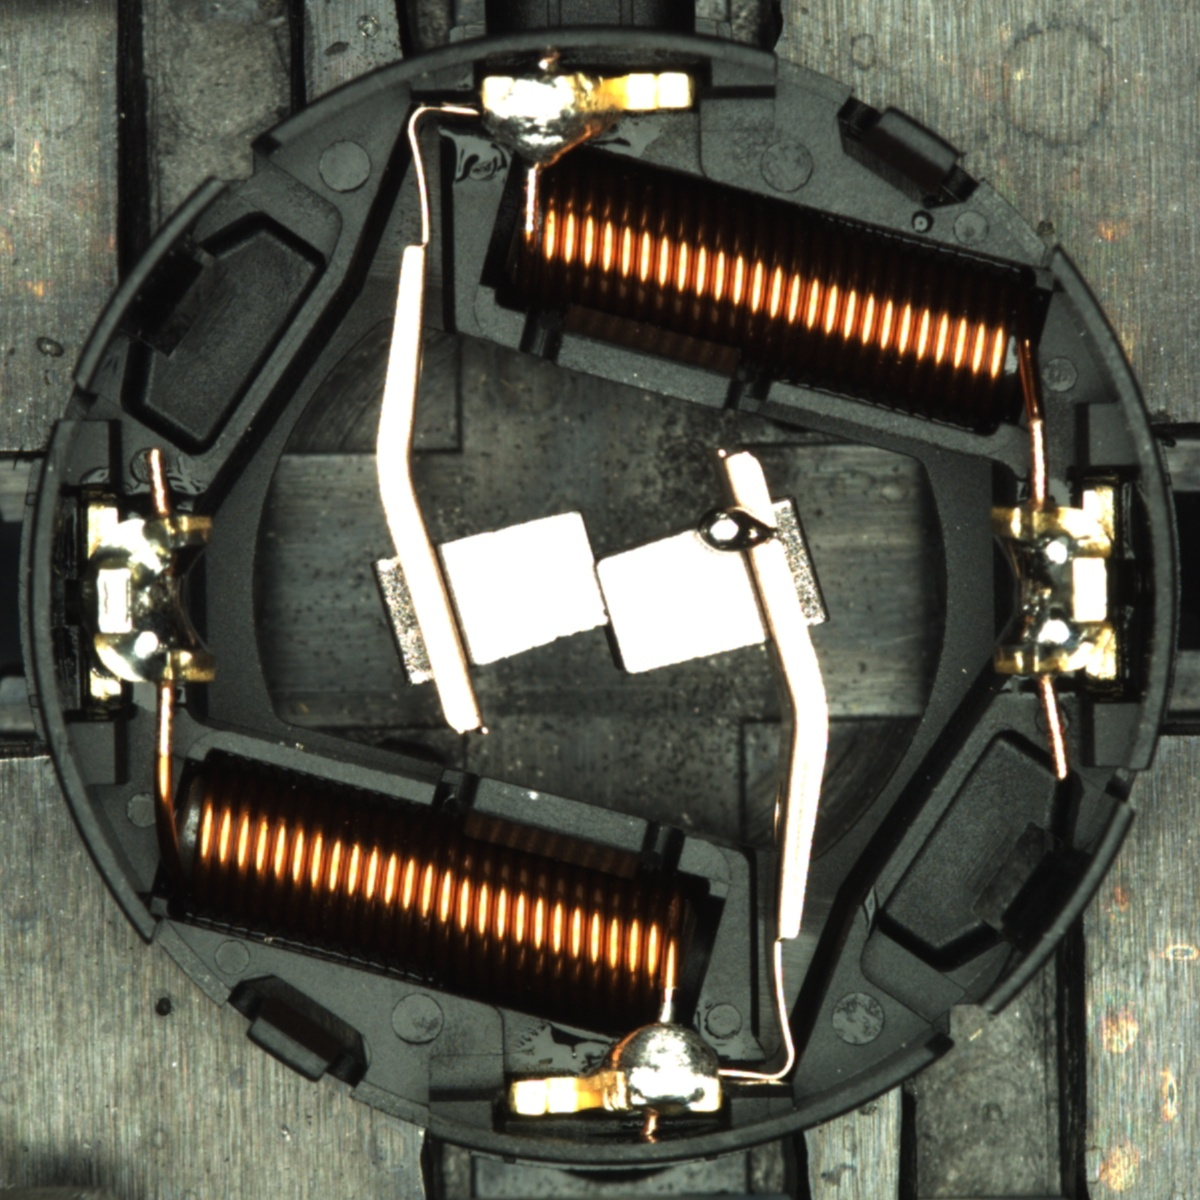1: (258, 55, 487, 279), (716, 953, 945, 1177)
2: (716, 55, 945, 279), (258, 953, 487, 1177)
3: (29, 279, 258, 503), (945, 729, 1175, 953)
4: (258, 279, 487, 503), (716, 729, 945, 953)
5: (487, 167, 716, 391), (487, 841, 716, 1065)
6: (716, 279, 945, 503), (258, 729, 487, 953)
7: (945, 279, 1175, 503), (29, 729, 258, 953)
chau_dien: (982, 487, 1123, 686), (82, 498, 220, 700)
hat_chi: (697, 505, 776, 553)
tay_choi: (479, 69, 696, 170), (509, 1018, 724, 1118)
thanh_de: (954, 786, 1142, 1032), (60, 163, 244, 405)
